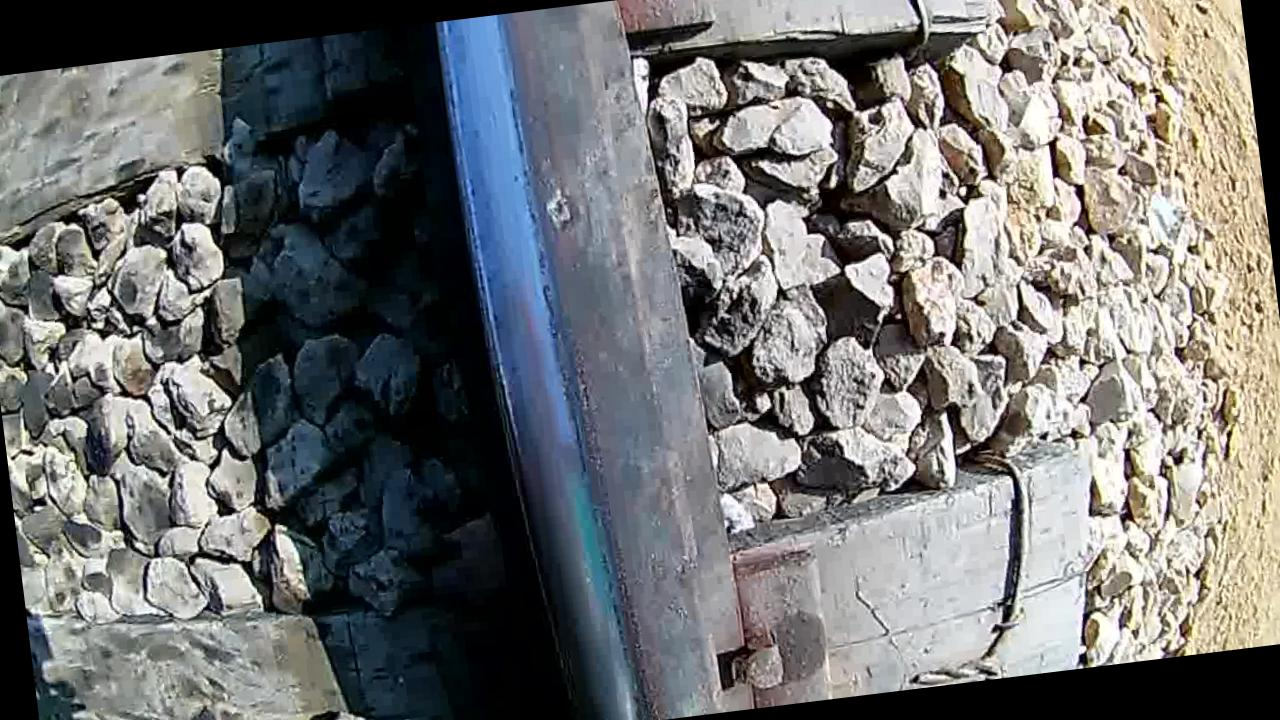crack: (467, 80, 724, 720)
